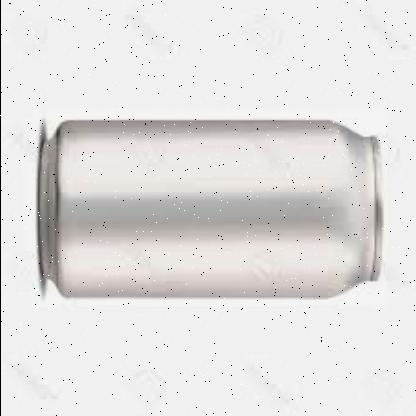Can: (41, 120, 379, 300)
